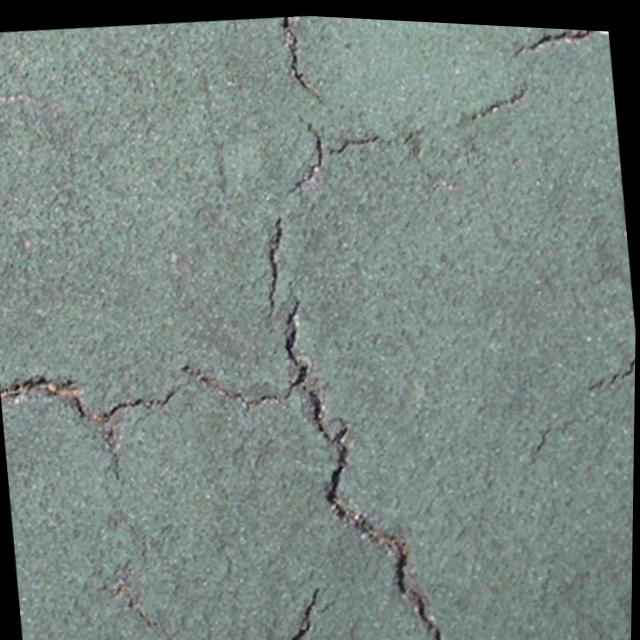Crack: (214, 174, 408, 519)
